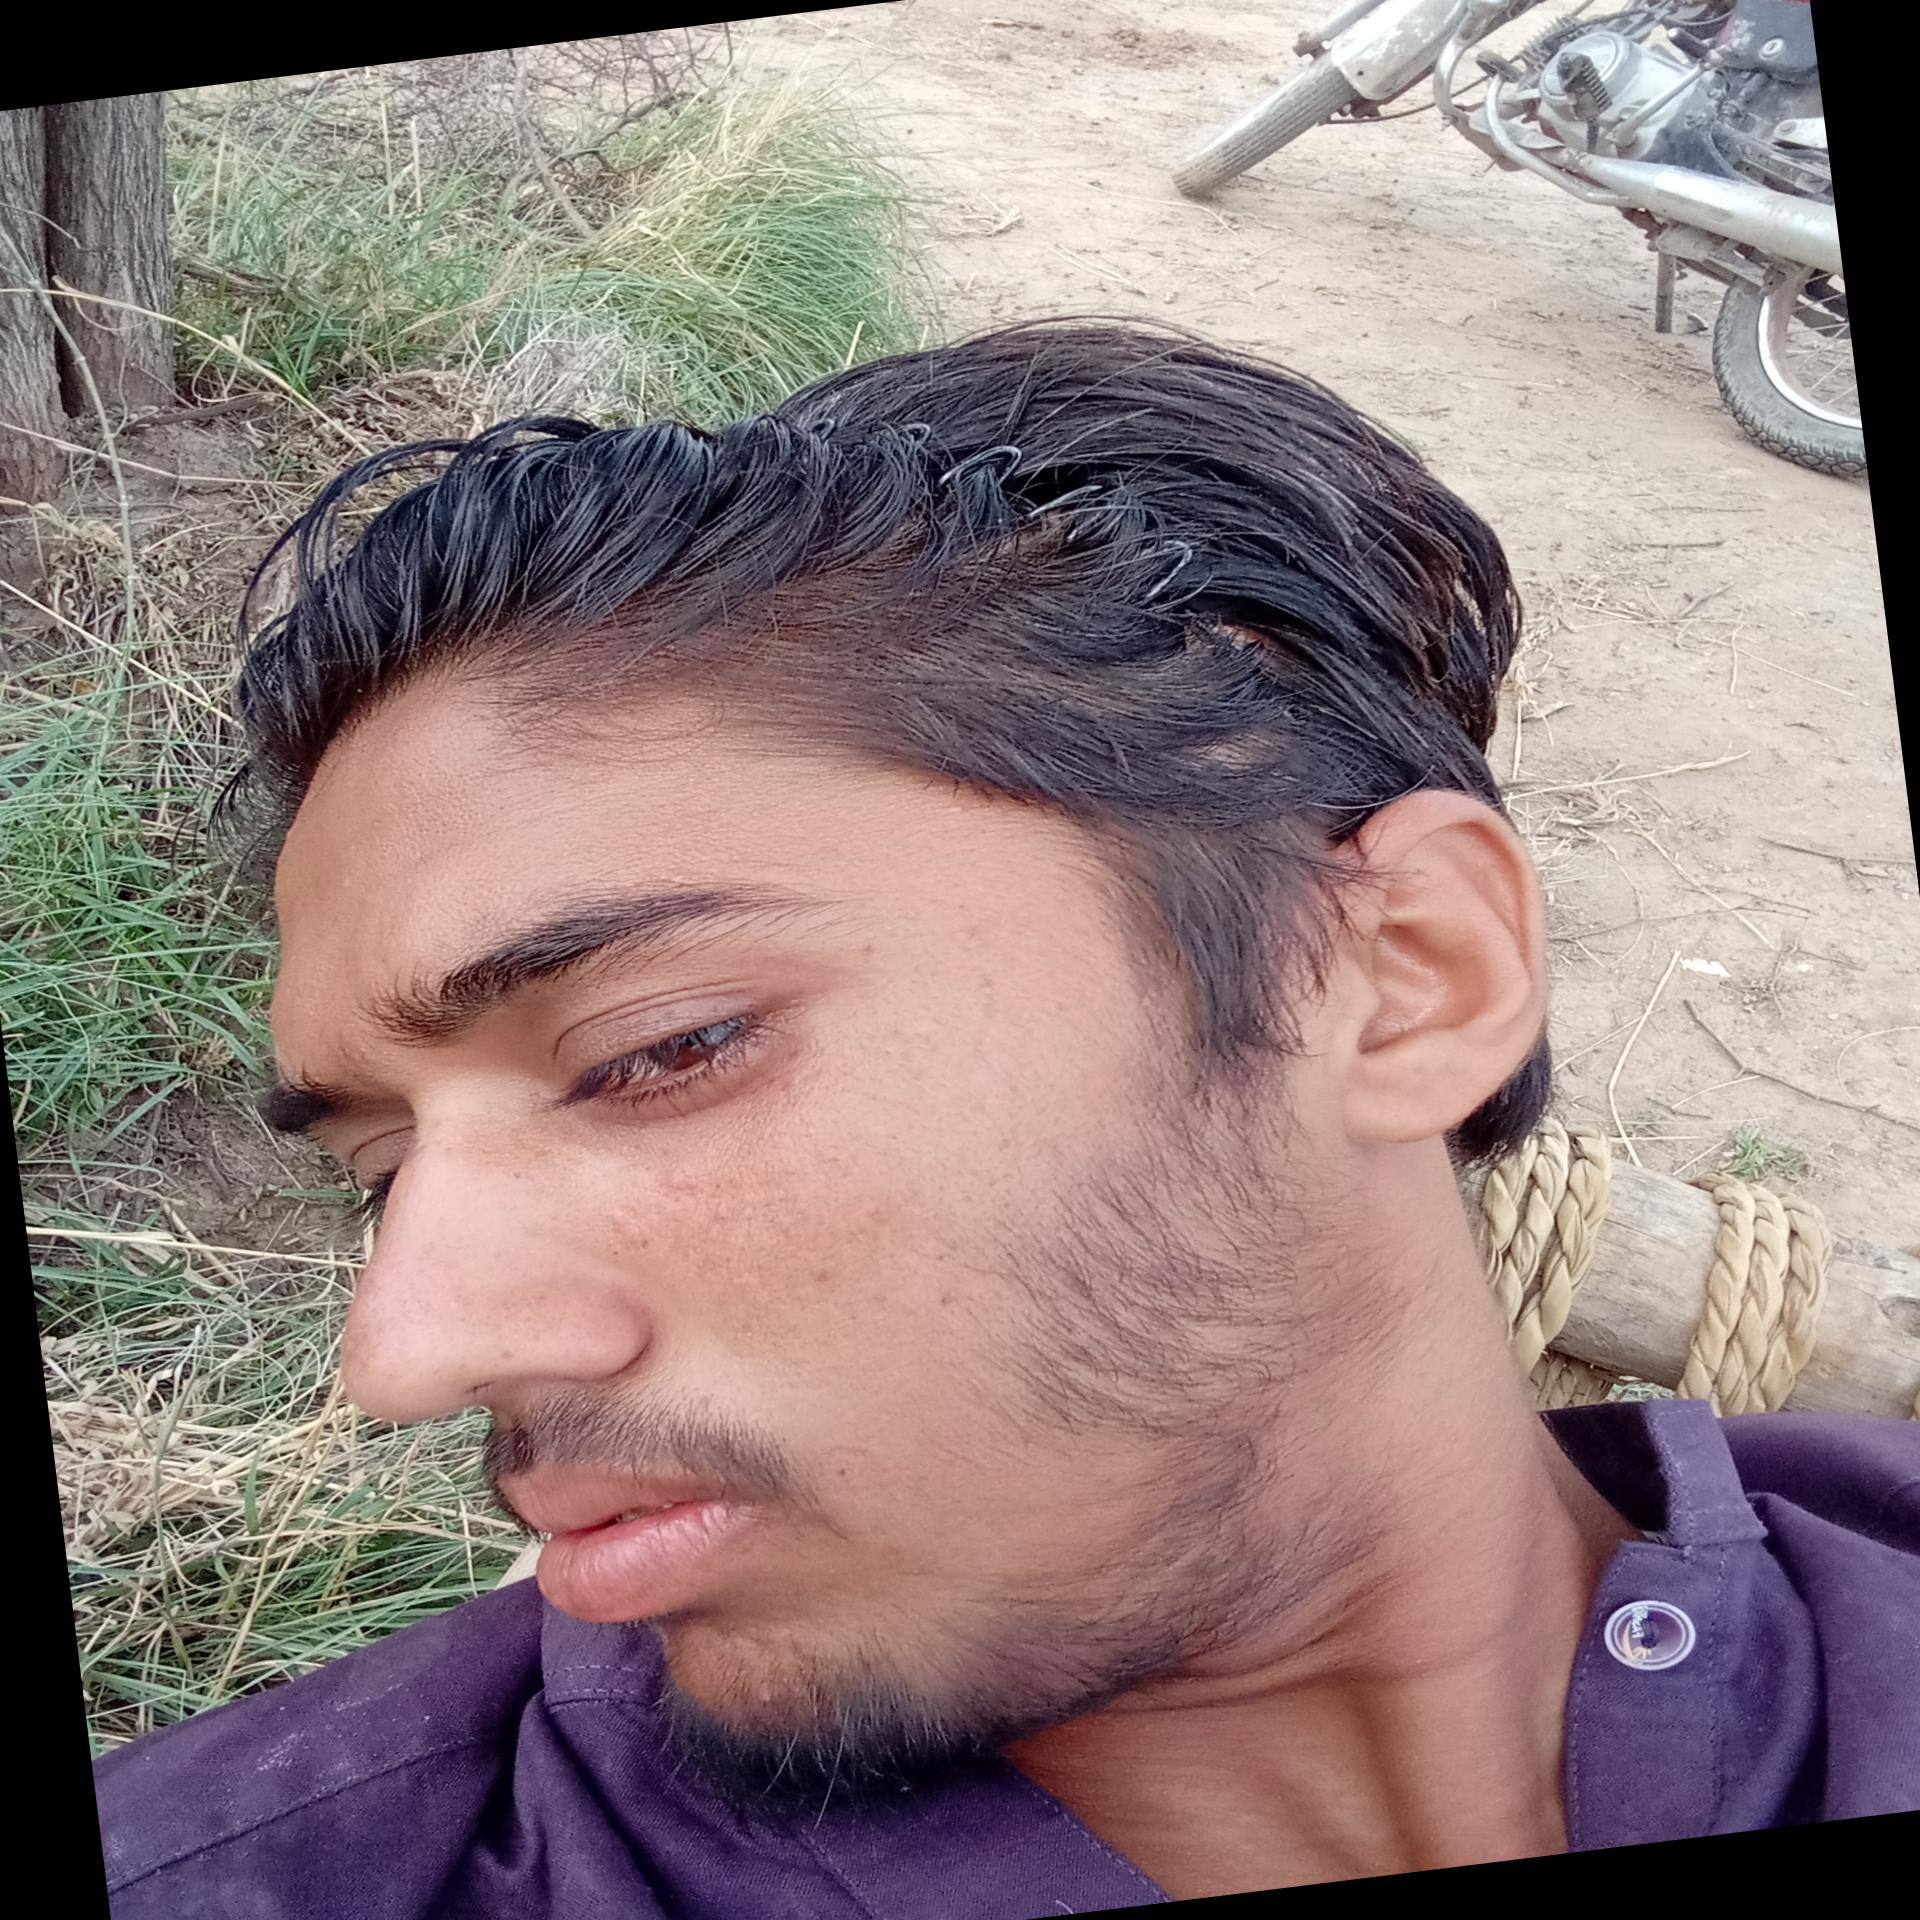Acne: (811, 1261, 842, 1291)
Englarged Pores: (652, 1139, 902, 1357), (382, 760, 512, 853)
